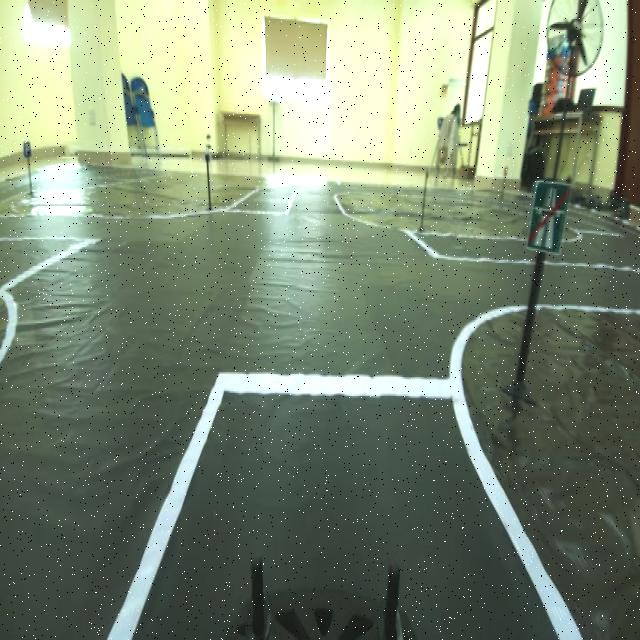highway_exit: (521, 164, 574, 276)
